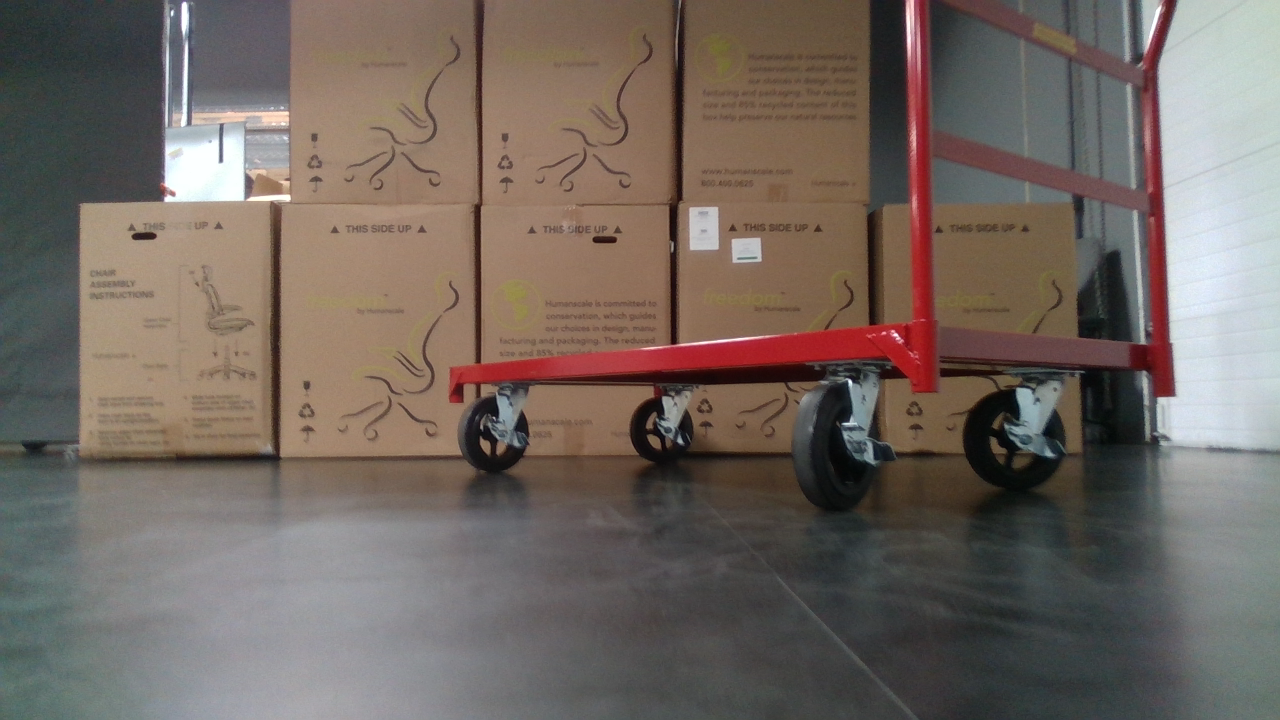Dolly: (442, 0, 1187, 511)
Wheel: (794, 378, 889, 516), (963, 386, 1070, 494), (452, 390, 536, 479), (624, 390, 701, 465)
